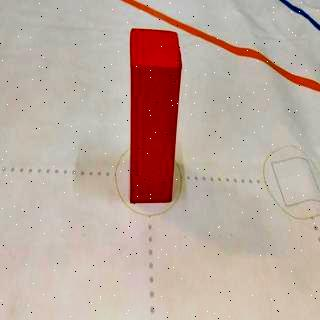redbox: (128, 26, 182, 203)
